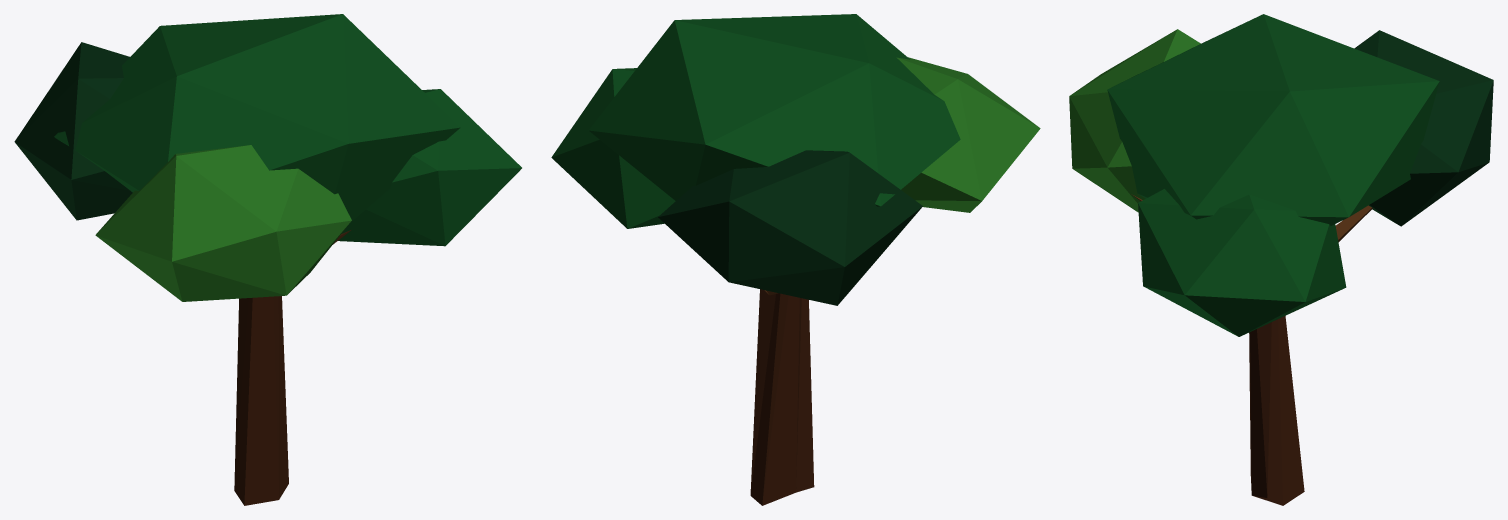
Rendered from world_tree_canopy_l.fbx.
The picture shows the model from 3 angles, left to right: view 1: azimuth 30°, elevation 25°; view 2: azimuth 150°, elevation 25°; view 3: azimuth 270°, elevation 25°; orthographic projection. The views are drawn at different scales.
Visible parts, largest first — view 1: world_tree_canopy_l; view 2: world_tree_canopy_l; view 3: world_tree_canopy_l.
Part boxes in pixels (x1,y1,x2,y2): world_tree_canopy_l: (14,14,521,505); world_tree_canopy_l: (551,14,1040,505); world_tree_canopy_l: (1069,14,1493,505).
Size of the model in its own units: 1793 by 1943 by 1666.
